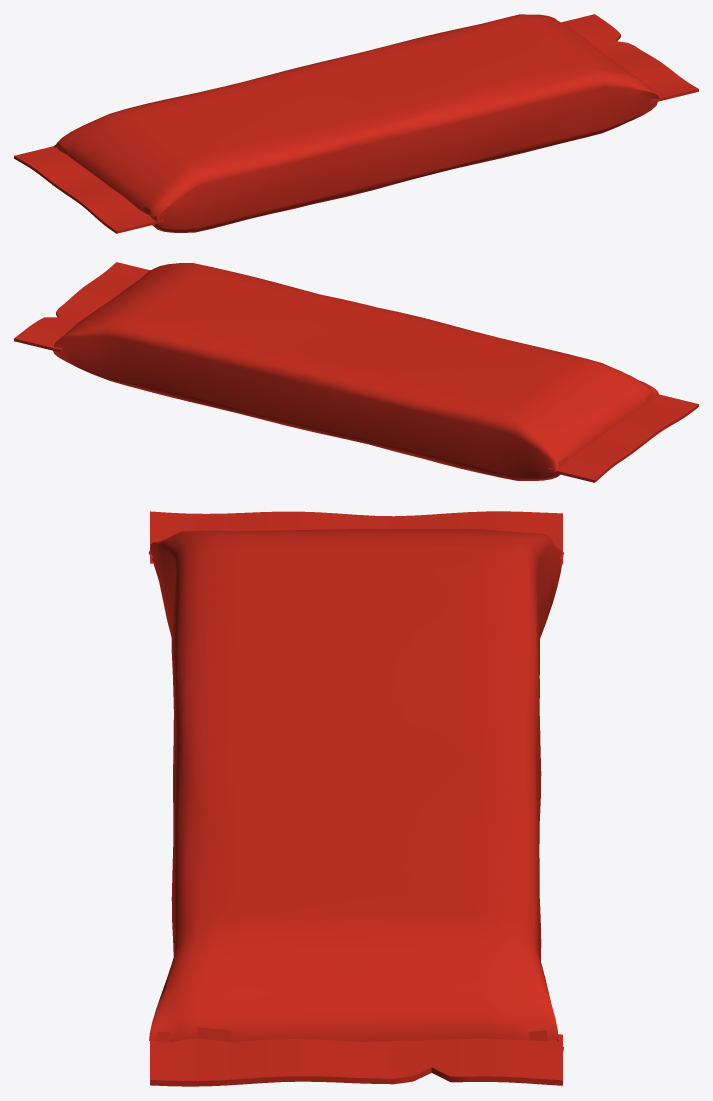
The model's file is item_energy.glb.
3 views of the same model, one above another, from view 1: azimuth 30°, elevation 25°; view 2: azimuth 150°, elevation 25°; view 3: azimuth 270°, elevation 25° (orthographic). The views are drawn at different scales.
Parts seen in each view (by area): view 1: energieriegel; view 2: energieriegel; view 3: energieriegel.
Boxes of the visible parts, x1,y1,x2,y2 form: energieriegel: (14, 14, 698, 233); energieriegel: (14, 262, 698, 482); energieriegel: (149, 511, 563, 1086).
Size of the model in its own units: 0.22 by 0.0244 by 0.068.
